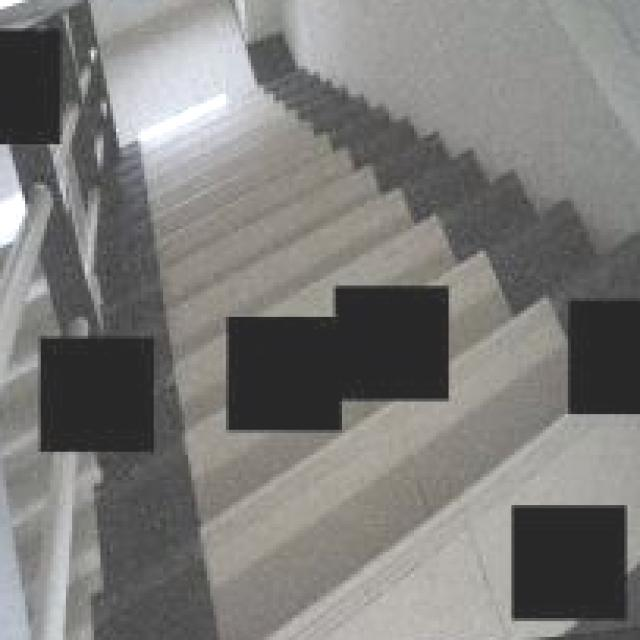downstair: (133, 143, 384, 284)
